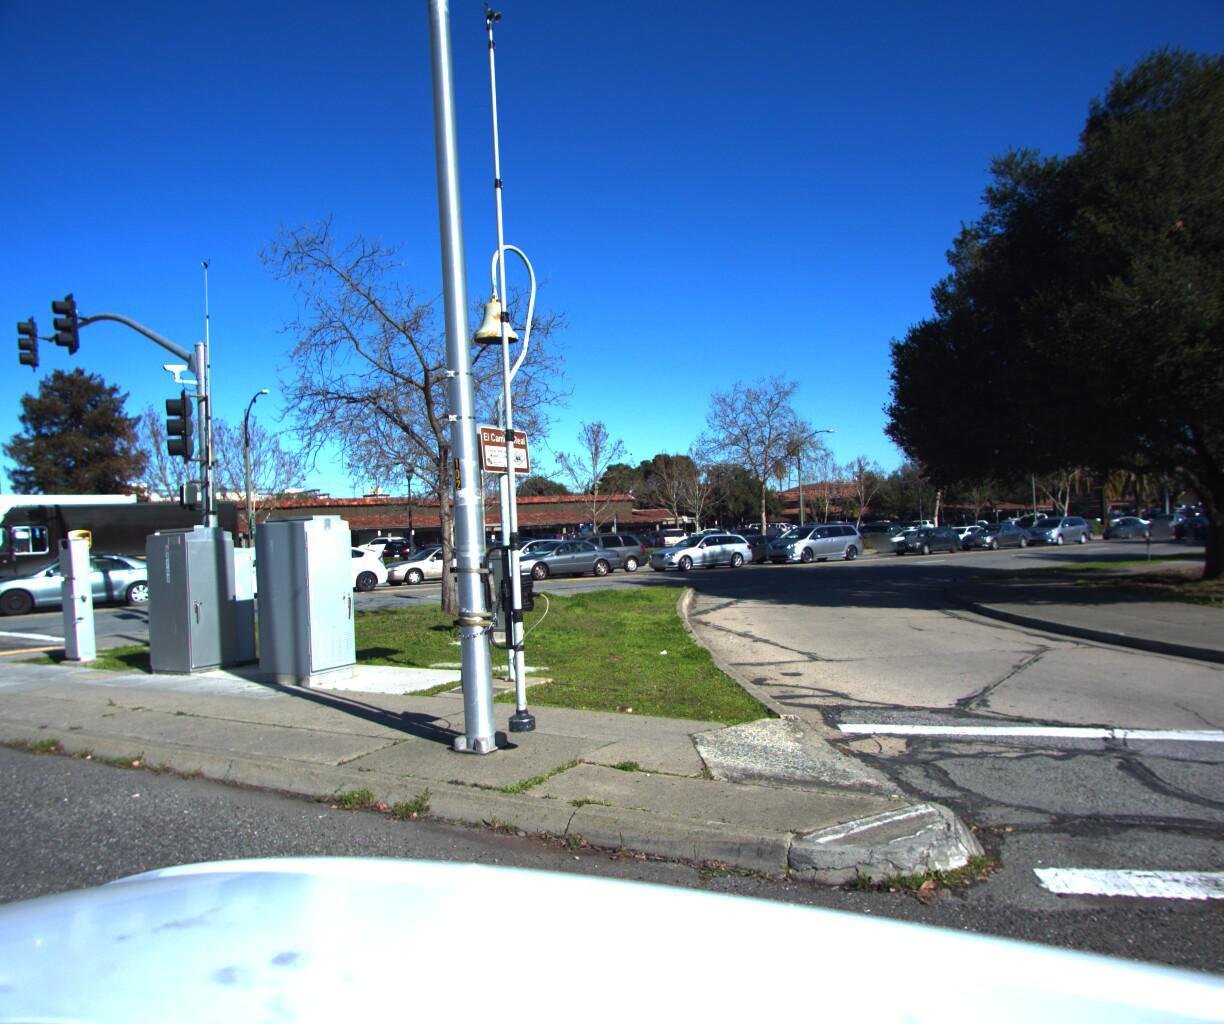car: (0, 543, 188, 617), (218, 535, 397, 595), (487, 531, 626, 577), (366, 537, 500, 584), (540, 524, 659, 573), (638, 524, 758, 567), (755, 514, 866, 560), (472, 530, 579, 576), (696, 527, 790, 570), (883, 519, 969, 552), (1017, 511, 1095, 541), (952, 517, 1032, 545), (881, 514, 947, 544), (851, 515, 920, 541), (1167, 510, 1224, 537), (1098, 515, 1150, 541), (1143, 508, 1189, 532)
truck: (0, 491, 253, 615), (0, 484, 146, 622)
